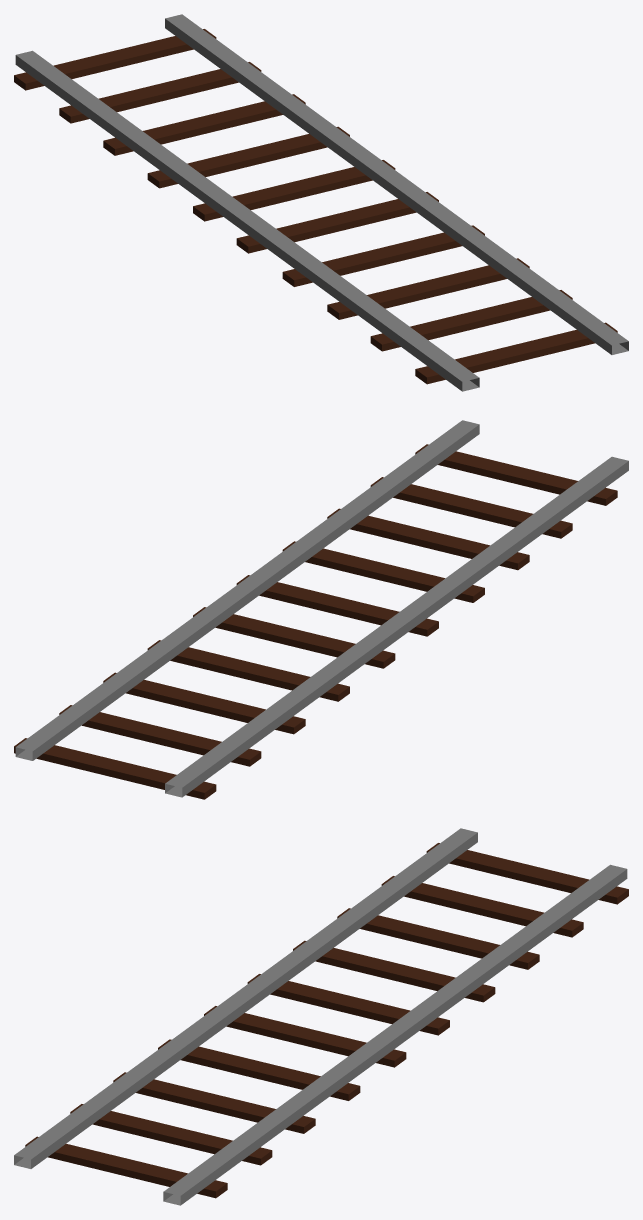
File: Rails.fbx
3 renders of one model, top to bottom at view 1: azimuth 30°, elevation 25°; view 2: azimuth 150°, elevation 25°; view 3: azimuth 330°, elevation 25°, orthographic.
Parts seen in each view (by area): view 1: Rail.004; view 2: Rail.004; view 3: Rail.004.
Part boxes in pixels (bbox=[...]): Rail.004: bbox=[14, 14, 628, 391]; Rail.004: bbox=[14, 420, 628, 799]; Rail.004: bbox=[14, 828, 628, 1205].
Bounding box in the file's own units: 49.28 × 4.11 × 200.
1 material, 1 textured.
